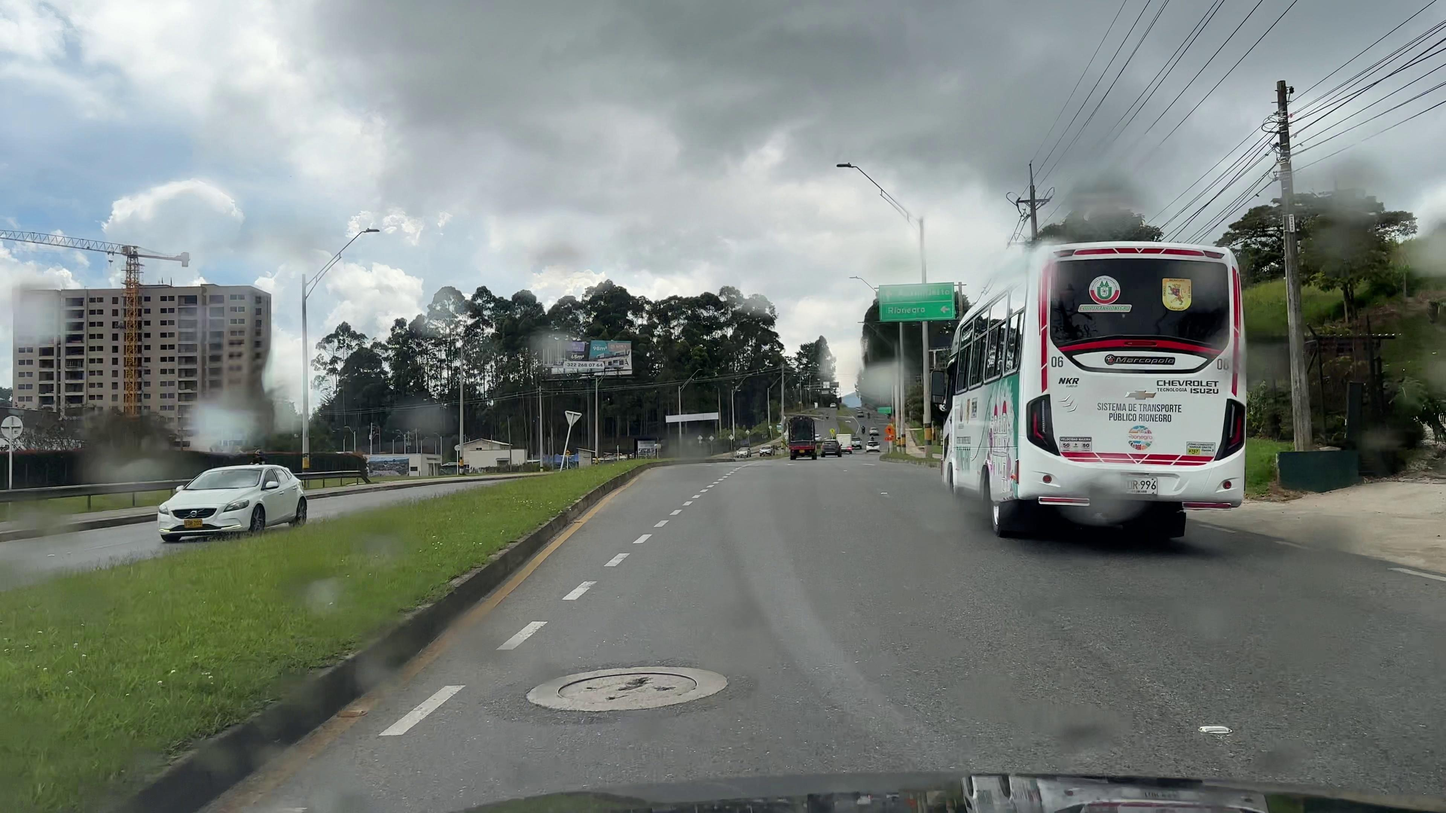registro: (557, 673, 697, 704)
